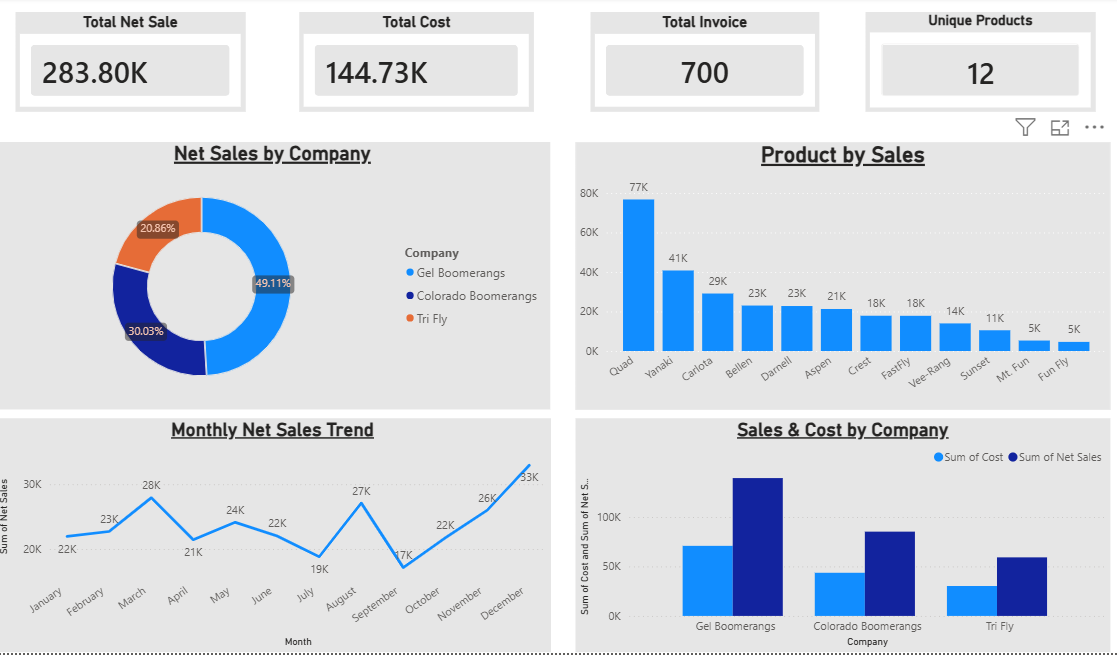

What the dashboard file says about the page in this screenshot:
{"tool":"powerbi","page":{"name":"Page 1","canvas":[1280,720],"ordinal":0},"visuals":[{"type":"cardVisual","title":"Total Net Sale","fields":{"Data":["Sum(master data.Net Sales)"]},"box":[24.7,16.5,252.5,109.8],"z":0},{"type":"cardVisual","title":"Total Cost","fields":{"Data":["Sum(master data.Cost)"]},"box":[336.2,16.5,258,109.8],"z":1000},{"type":"donutChart","title":"Net Sales by Company","fields":{"Category":["master data.Company"],"Y":["Sum(master data.Net Sales)"]},"box":[1.4,159.2,610.6,293.7],"z":2000},{"type":"clusteredColumnChart","title":"Product by Sales","fields":{"Y":["Sum(master data.Net Sales)"],"Category":["master data.Product"]},"box":[639.5,159.2,587.3,293.7],"z":3000},{"type":"cardVisual","title":"Total Invoice","fields":{"Data":["Count(master data.Invoice Number)"]},"box":[655.9,16.5,251.1,109.8],"z":4000},{"type":"cardVisual","title":"Unique Products","fields":{"Data":["Count(master data.Product)"]},"box":[957.8,16.5,252.5,109.8],"z":5000},{"type":"lineChart","title":"Monthly Net Sales Trend","fields":{"Y":["Sum(master data.Net Sales)"],"Category":["master data.Date.Variation.Date Hierarchy.Month"]},"box":[1,463,611,257],"z":6000},{"type":"clusteredColumnChart","title":"Sales & Cost  by Company","fields":{"Category":["master data.Company"],"Y":["Sum(master data.Cost)","Sum(master data.Net Sales)"]},"box":[639,463,587,257],"z":7000}]}

Visuals, with their boxes on the page's 1280x720 design canvas (x1, y1, x2, y2). These are canvas units, not pixel positions in the 1117x657 screenshot, which may show the page scaled, cropped or inside an application window:
"Total Net Sale" cardVisual: box(25, 16, 277, 126)
"Total Cost" cardVisual: box(336, 16, 594, 126)
"Net Sales by Company" donutChart: box(1, 159, 612, 453)
"Product by Sales" clusteredColumnChart: box(640, 159, 1227, 453)
"Total Invoice" cardVisual: box(656, 16, 907, 126)
"Unique Products" cardVisual: box(958, 16, 1210, 126)
"Monthly Net Sales Trend" lineChart: box(1, 463, 612, 720)
"Sales & Cost  by Company" clusteredColumnChart: box(639, 463, 1226, 720)
